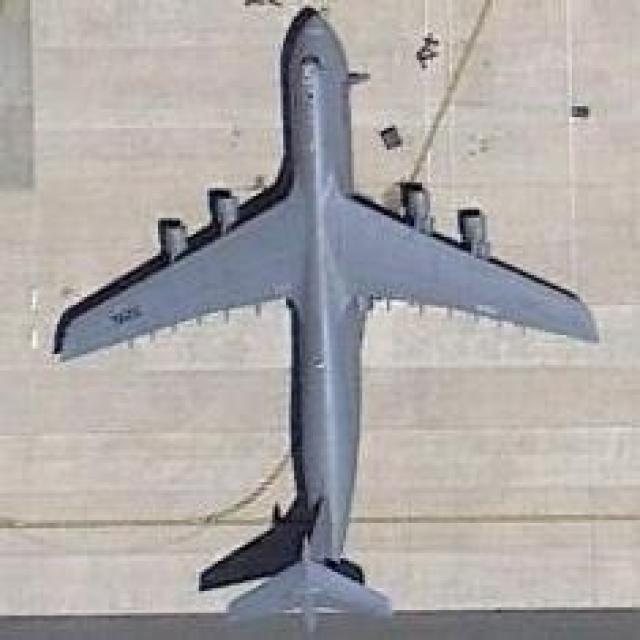C-5_TopDown: (53, 6, 602, 636)
